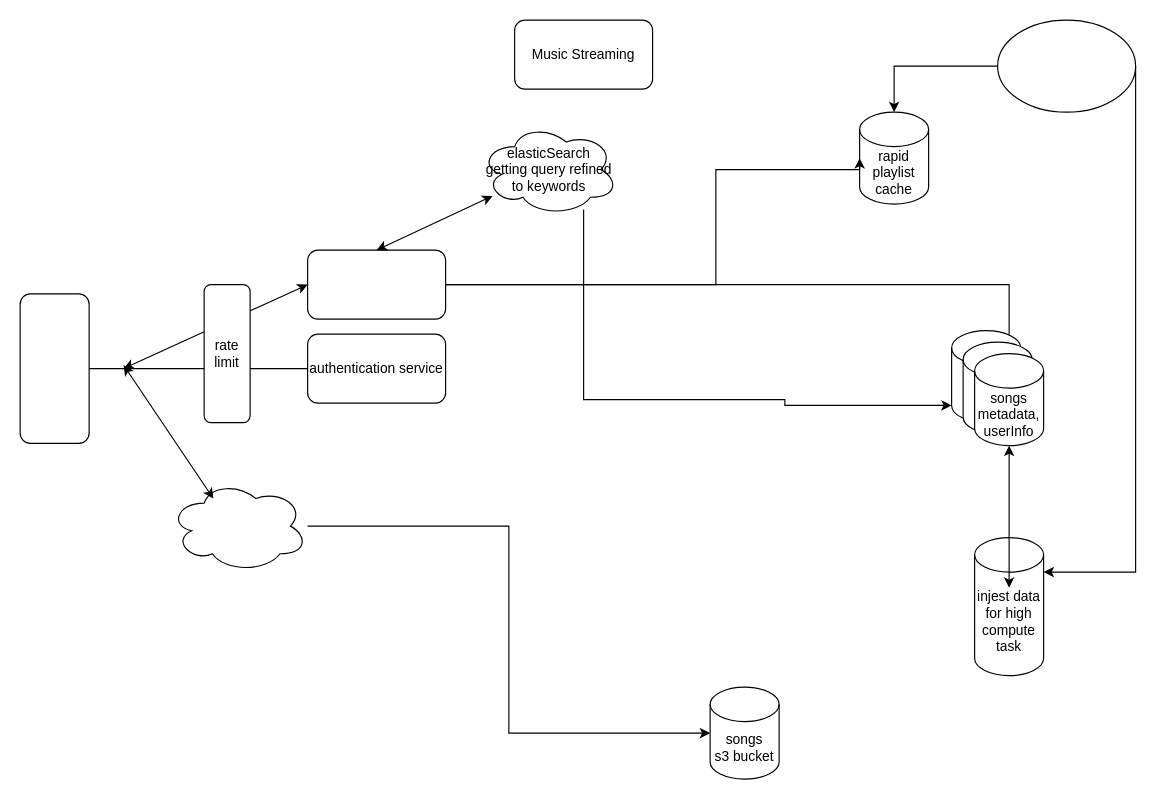
Image size: 1165x799. Some labels were removed from this diagram. Here are the shapes that lost their labels. From the top down, the box of each, then its label:
(996, 19, 1136, 112): generate best playlist based on date, mood
(306, 249, 446, 319): search
(19, 293, 89, 443): client
(168, 479, 308, 572): akamai
